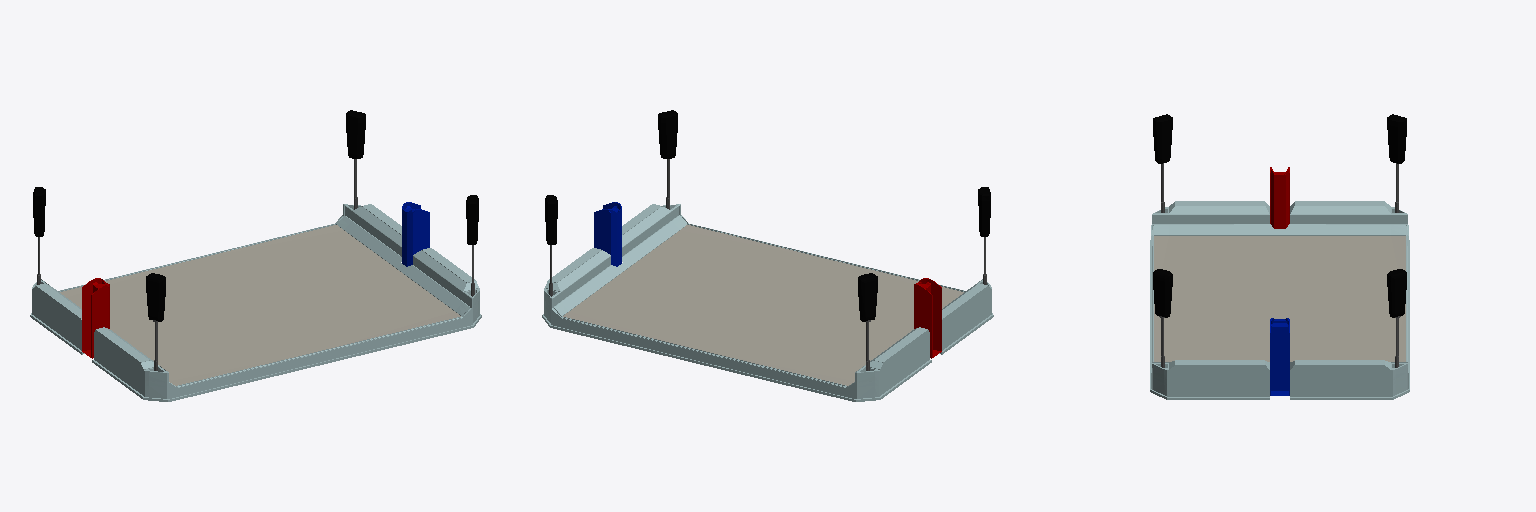
The model's file is Arena.obj.
3 renders of one model, left to right at view 1: azimuth 30°, elevation 25°; view 2: azimuth 150°, elevation 25°; view 3: azimuth 270°, elevation 25°, orthographic.
Parts seen in each view (by area): view 1: polySurface14_polySurface15_polySurface16_polySurface17, pCube8, pCube8.001; view 2: polySurface14_polySurface15_polySurface16_polySurface17, pCube8, pCube8.001; view 3: polySurface14_polySurface15_polySurface16_polySurface17, pCube8.001, pCube8.
Boxes of the visible parts, <box> form: polySurface14_polySurface15_polySurface16_polySurface17: <box>30,110,481,401</box>; pCube8: <box>82,278,109,358</box>; pCube8.001: <box>402,202,429,266</box>; polySurface14_polySurface15_polySurface16_polySurface17: <box>542,110,993,401</box>; pCube8: <box>914,278,941,358</box>; pCube8.001: <box>594,202,621,266</box>; polySurface14_polySurface15_polySurface16_polySurface17: <box>1150,114,1409,399</box>; pCube8.001: <box>1270,318,1289,395</box>; pCube8: <box>1270,167,1289,228</box>.
Bounding box in the file's own units: 71.59 × 24.81 × 47.72.